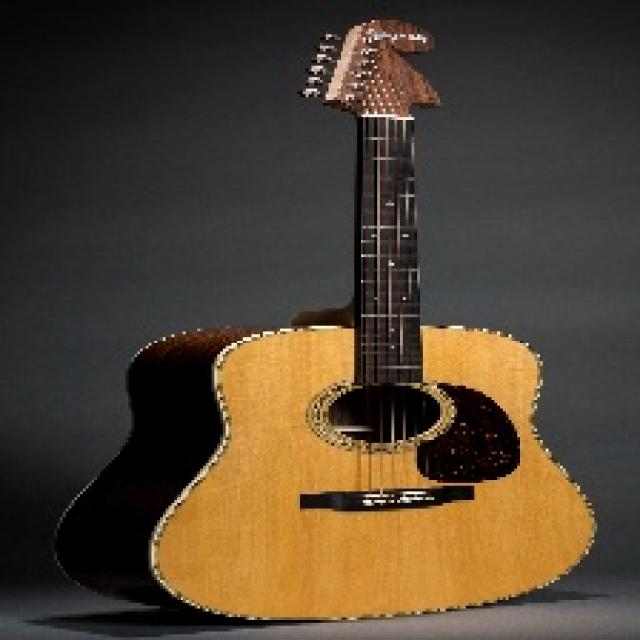guitar: (51, 19, 598, 622)
